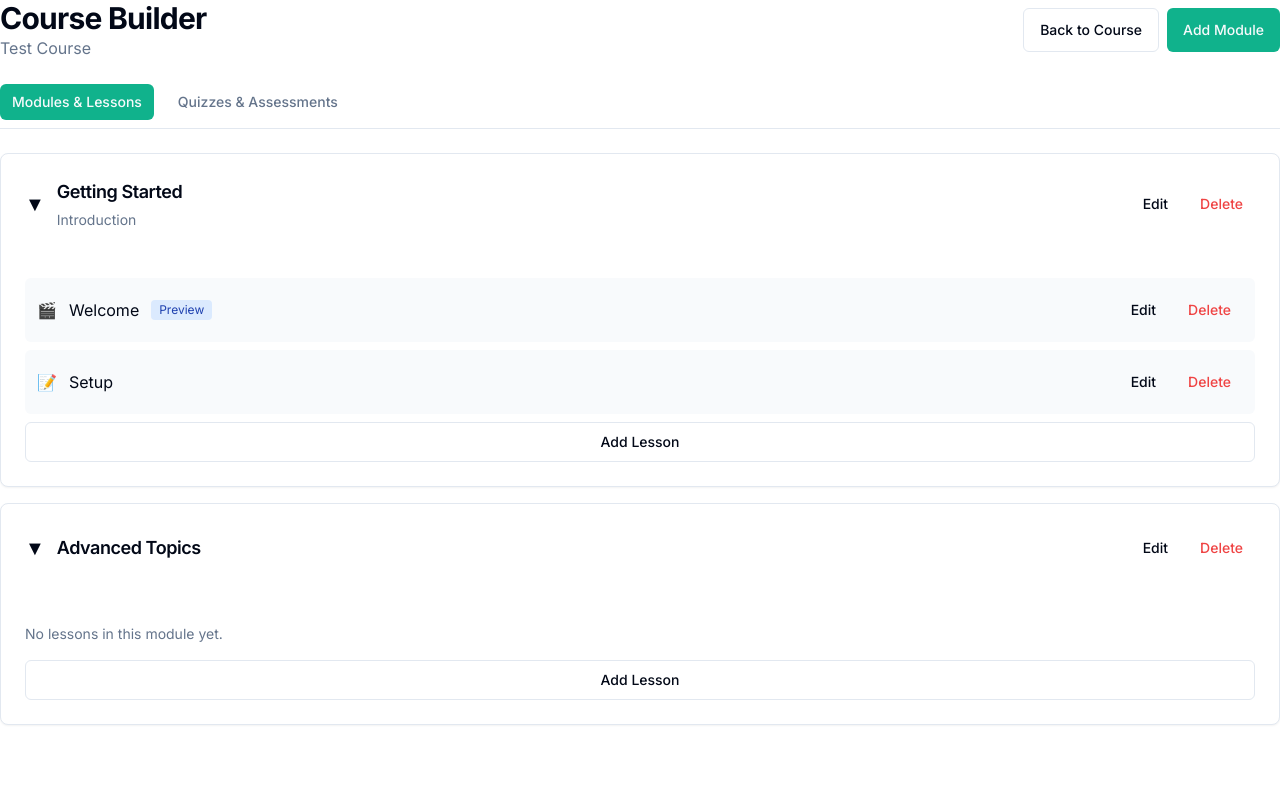
CourseBuilderPage › opens add module modal when clicking Add Module
Check: the text "Test Course" is shown, box [0,38,91,58]
Click the button "Add Module".
click(1224, 30)  # box [1167,8,1279,52]
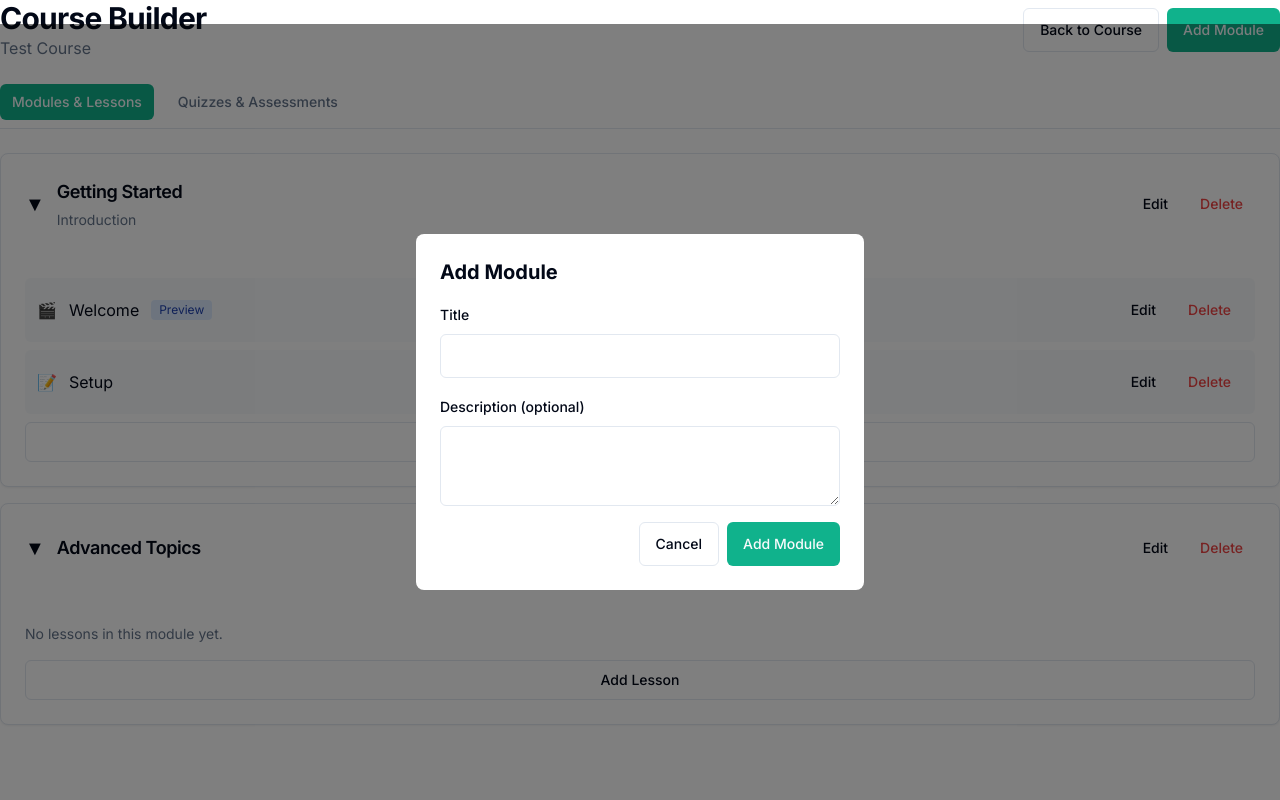
Check: the heading "Add Module" is shown, box [440,260,558,284]
